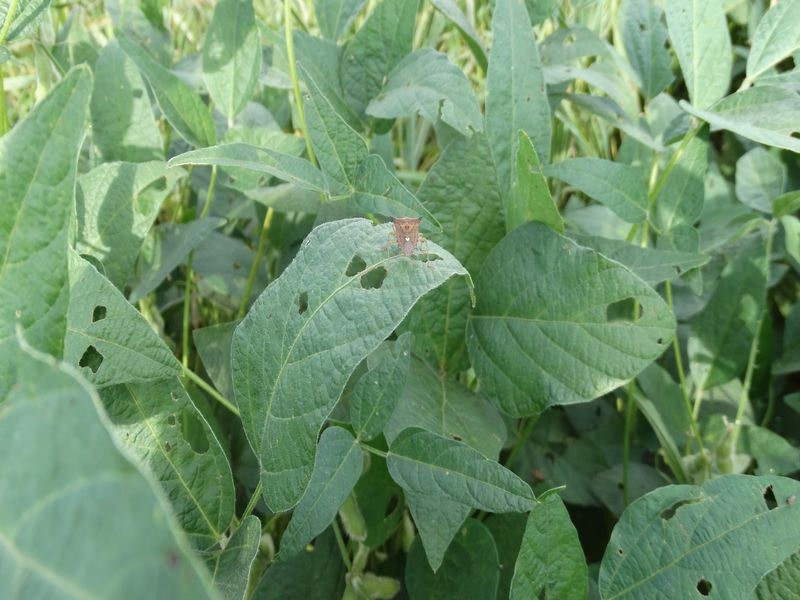Euschistus_heros_adulto: (379, 209, 434, 266)
